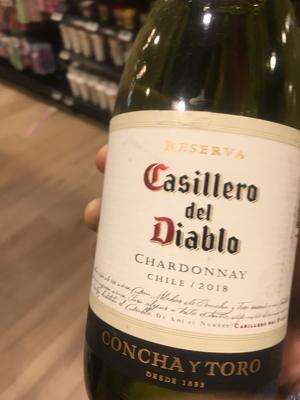casillero del diablo chardonnay: (86, 21, 300, 400)
